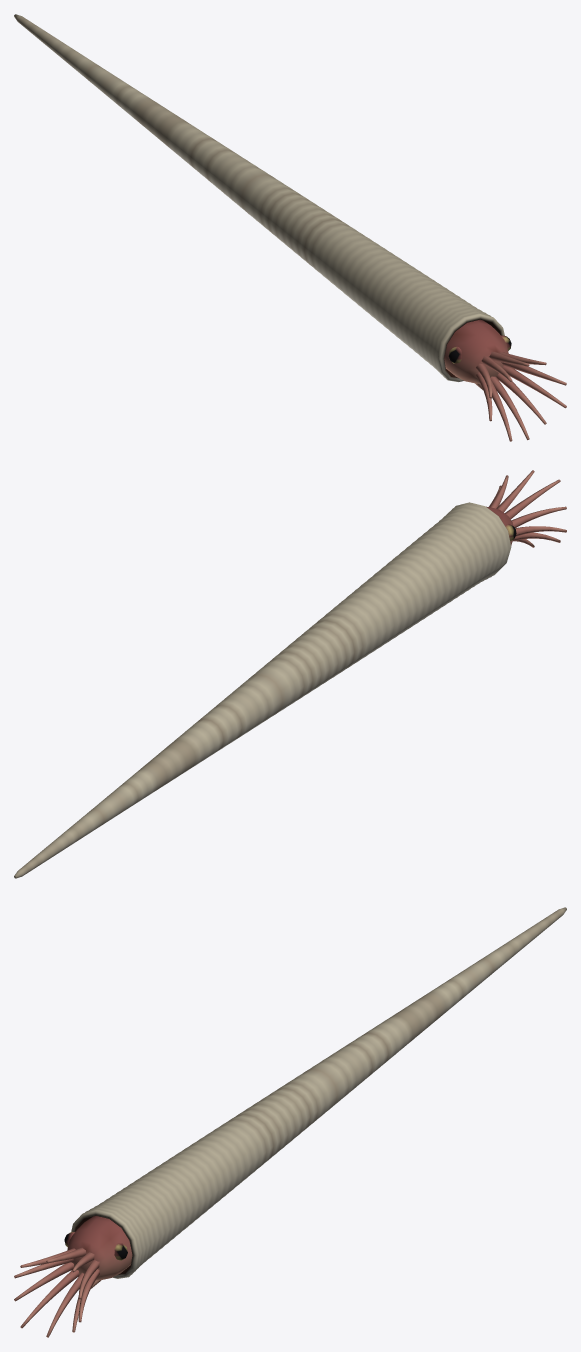
The model's file is Bactrites.fbx.
3 renders of one model, top to bottom at view 1: azimuth 30°, elevation 25°; view 2: azimuth 150°, elevation 25°; view 3: azimuth 330°, elevation 25°, orthographic.
Visible parts, largest first — view 1: Bactrites; view 2: Bactrites; view 3: Bactrites.
Part boxes in pixels (bbox=[...]): Bactrites: bbox=[14, 14, 566, 441]; Bactrites: bbox=[14, 470, 566, 878]; Bactrites: bbox=[14, 907, 566, 1337].
Size of the model in its own units: 0.1545 by 0.1717 by 1.92.
